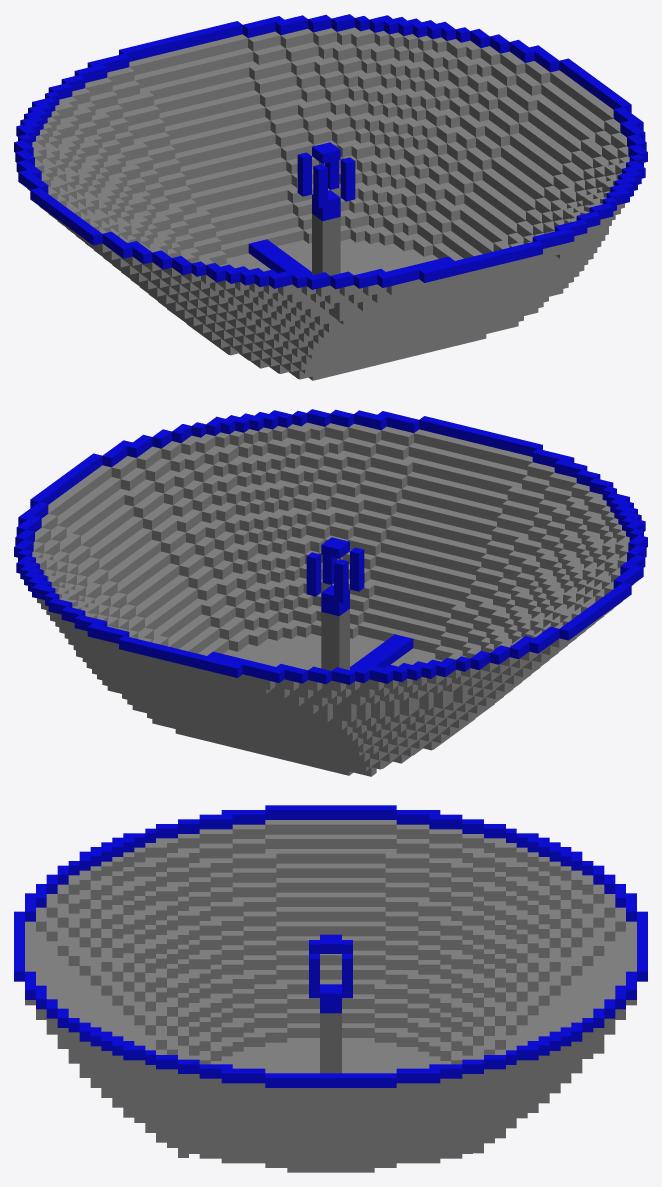
Rendered from CommCenterAnthena.obj.
3 renders of one model, top to bottom at view 1: azimuth 30°, elevation 25°; view 2: azimuth 150°, elevation 25°; view 3: azimuth 270°, elevation 25°, orthographic. The views are drawn at different scales.
Size of the model in its own units: 5.9 by 1.7 by 5.8.
1 material, 1 textured.
